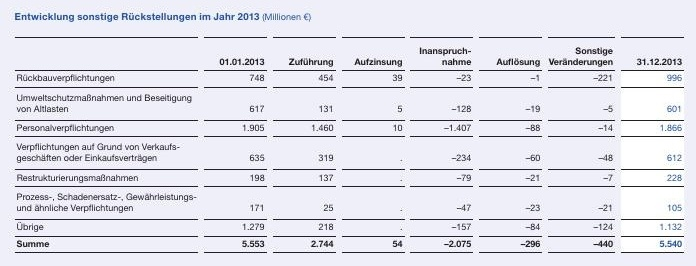table: (0, 0, 696, 266)
